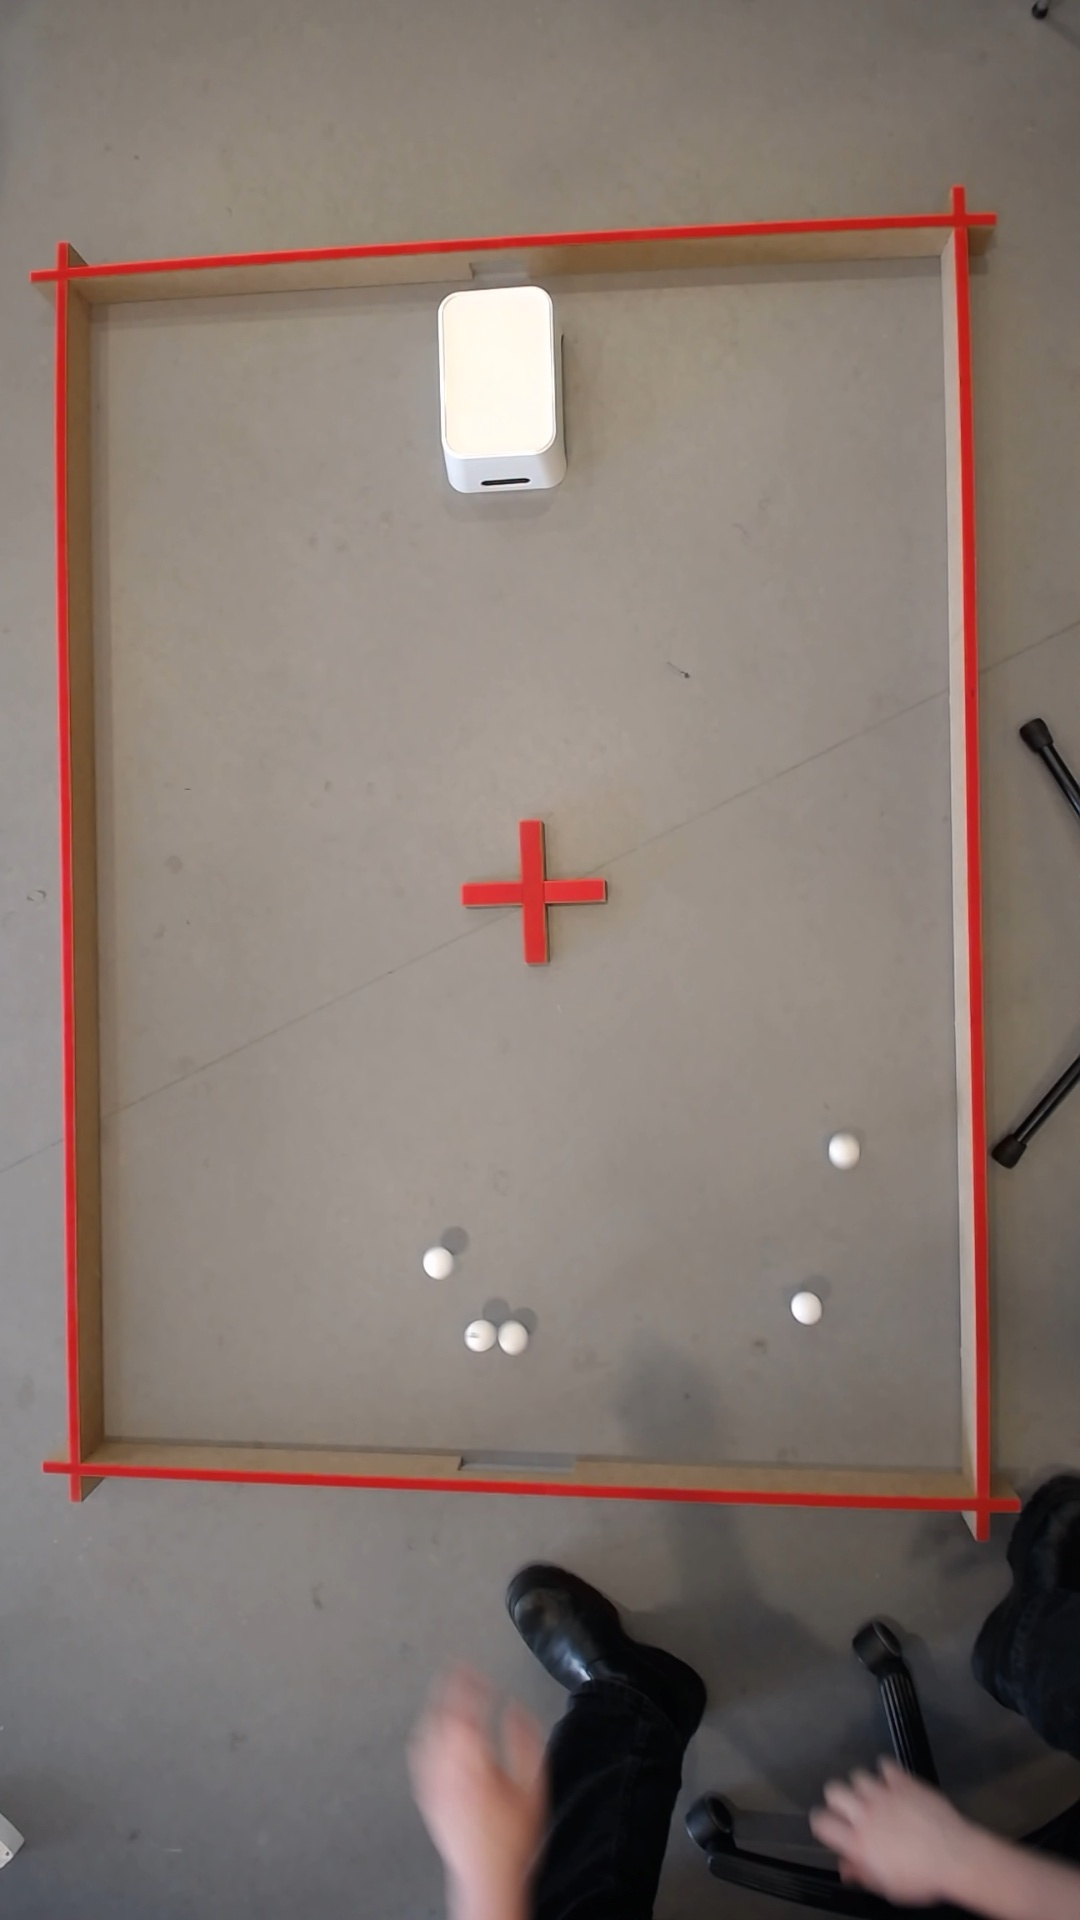balls: (434, 1804, 479, 1887), (869, 1837, 910, 1869), (785, 1288, 819, 1324), (459, 1317, 492, 1353), (823, 1135, 855, 1166), (422, 1249, 447, 1278)
car: (493, 1320, 525, 1354)
